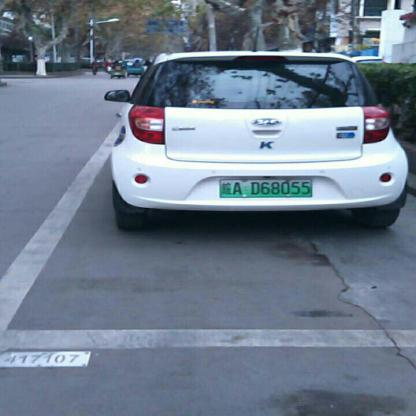lp: (219, 178, 312, 196)
